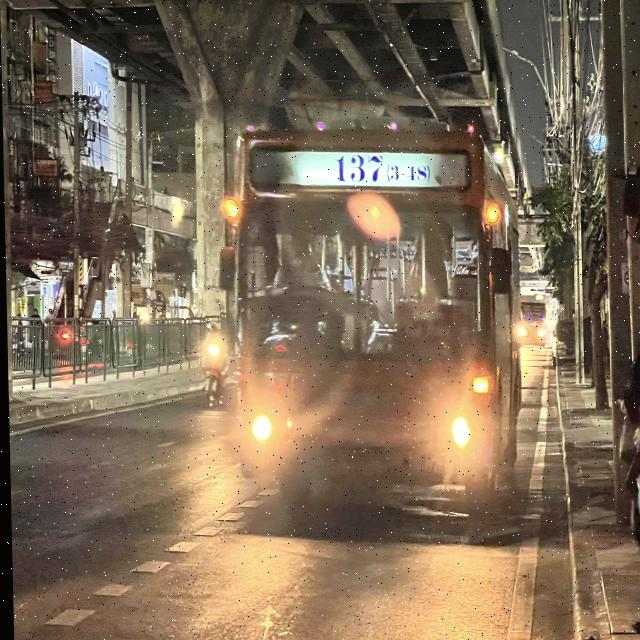BMTA-bus: (221, 110, 524, 524)
Bus-Line-Number: (332, 150, 431, 186)
Destination-Sign-Extra-Bus: (391, 298, 464, 359)
